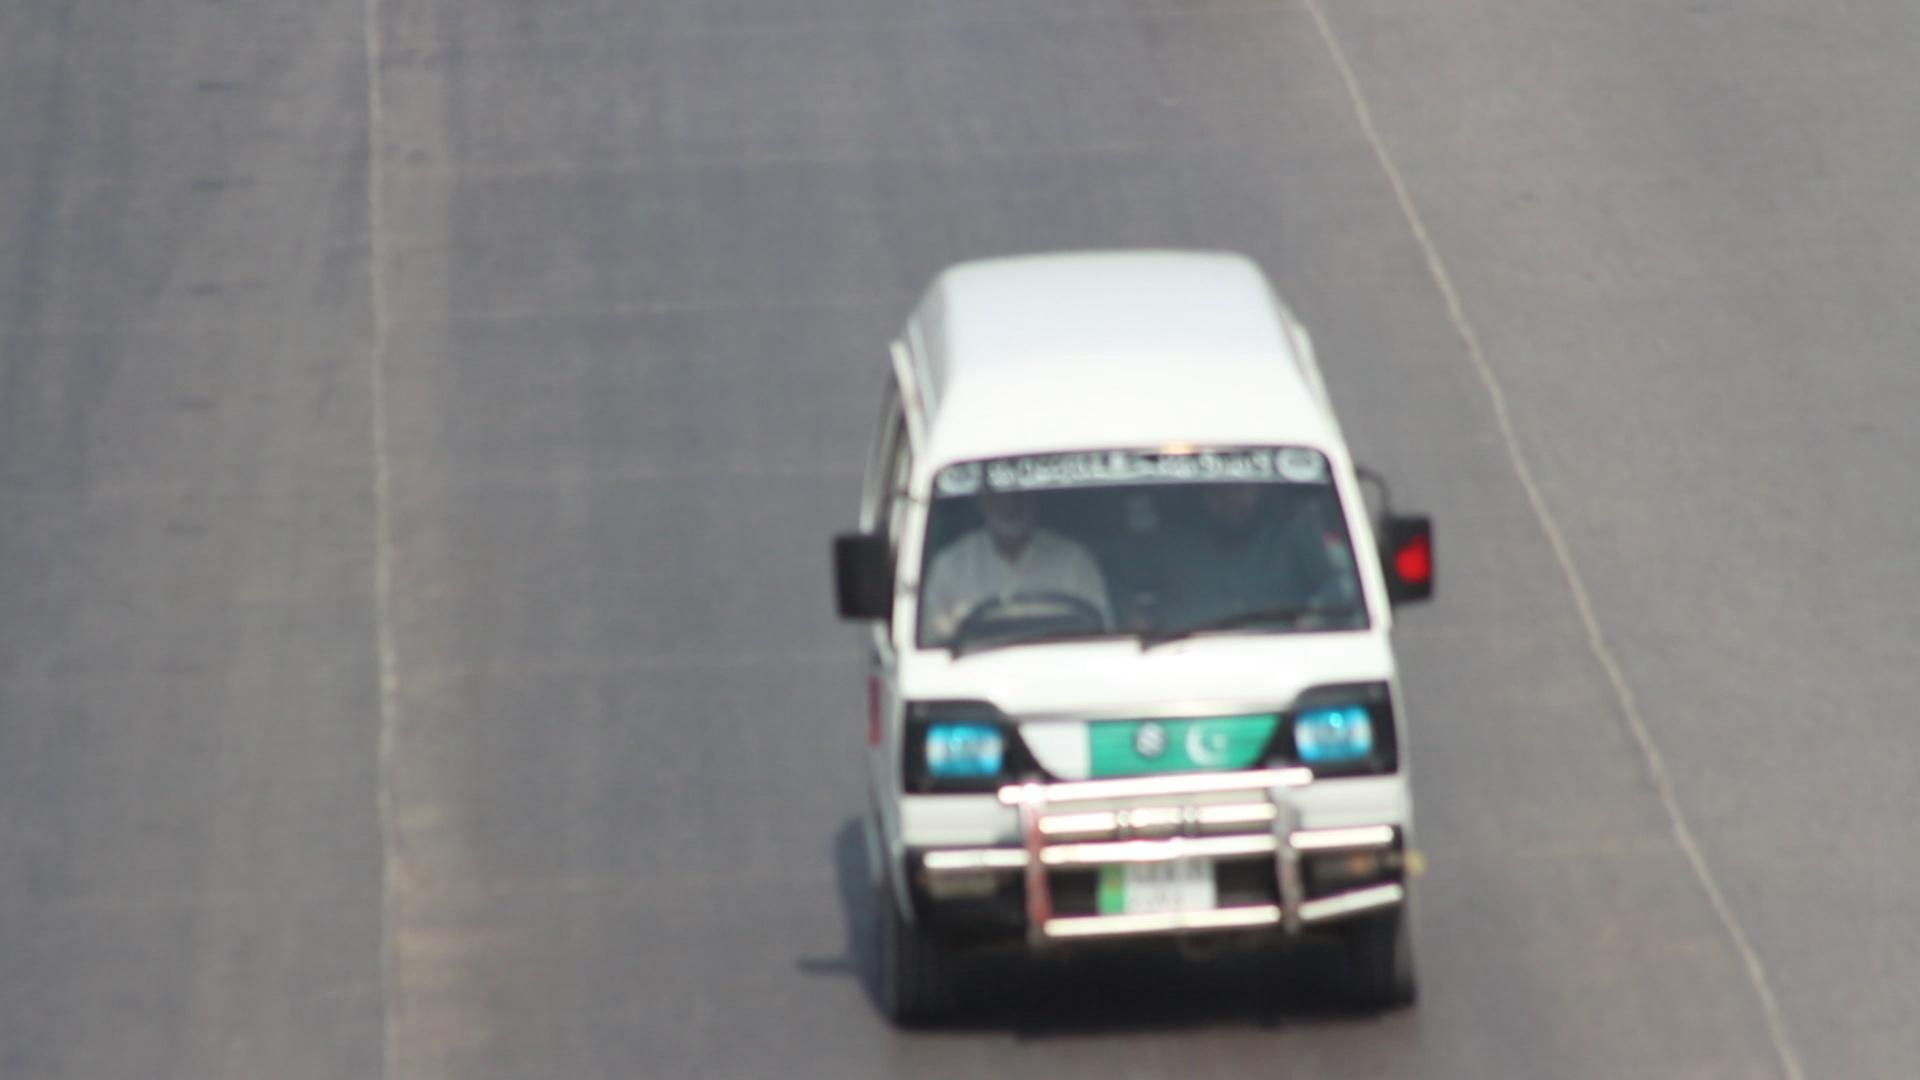windshield: (903, 430, 1387, 670)
